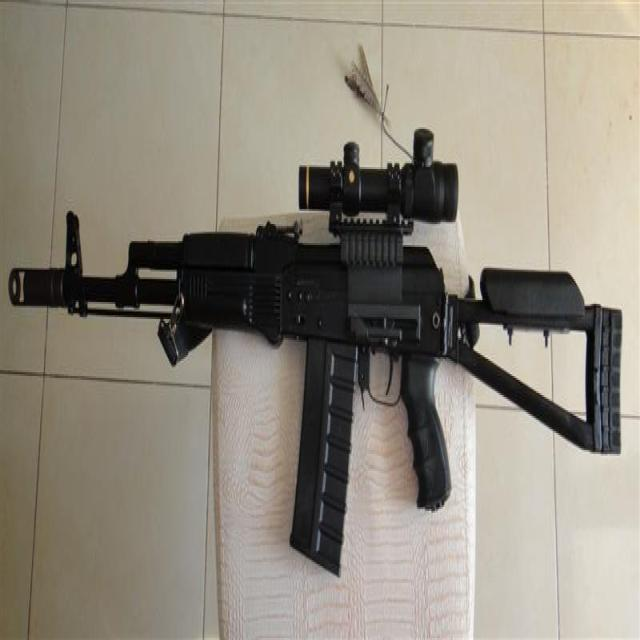firearm: (9, 127, 622, 579)
